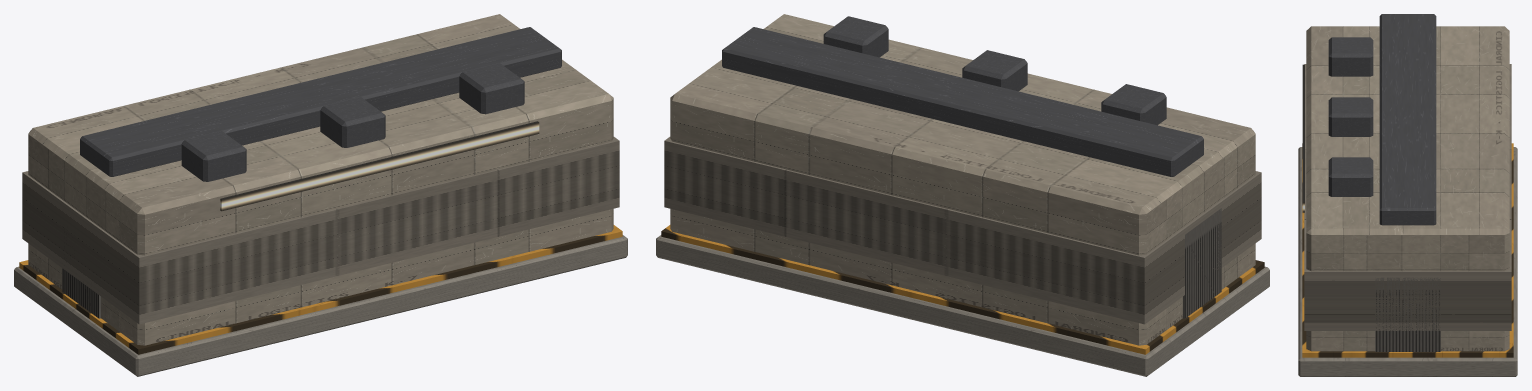
The model's file is barracks.obj.
3 renders of one model, left to right at view 1: azimuth 30°, elevation 25°; view 2: azimuth 150°, elevation 25°; view 3: azimuth 270°, elevation 25°, orthographic. The views are drawn at different scales.
Visible parts, largest first — view 1: barracks; view 2: barracks; view 3: barracks.
Boxes of the visible parts, x1,y1,x2,y2 form: barracks: (14,14,627,376); barracks: (656,14,1269,376); barracks: (1298,14,1517,376).
Bounding box in the file's own units: 12.4 × 4.5 × 5.4.
1 material, 1 textured.
